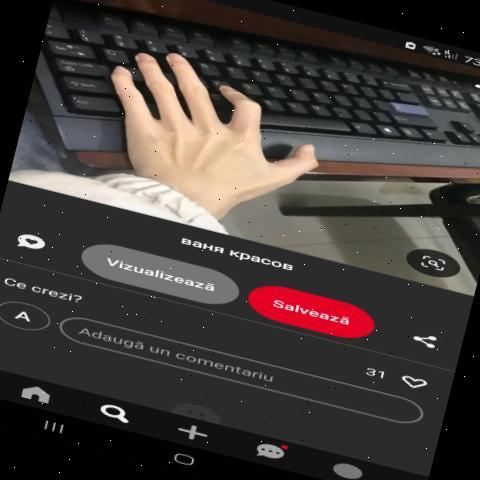Hands: (88, 26, 342, 211)
